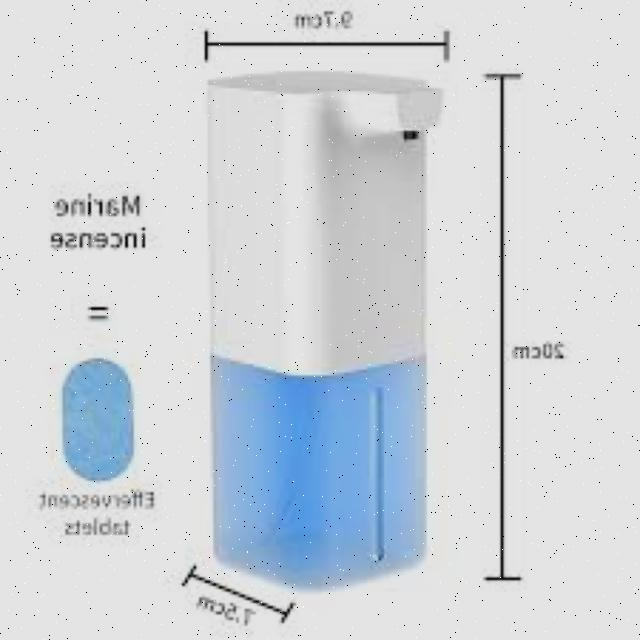liquid soap: (196, 60, 458, 594)
